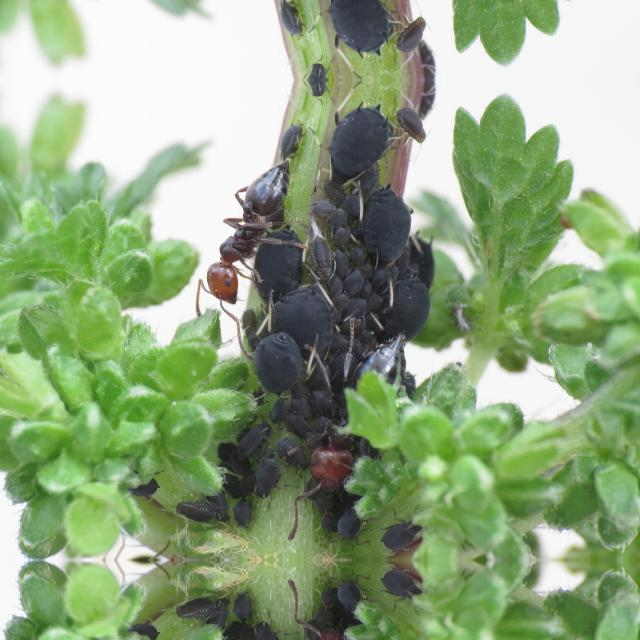Crematogaster: (304, 324, 416, 501), (188, 156, 292, 298)
